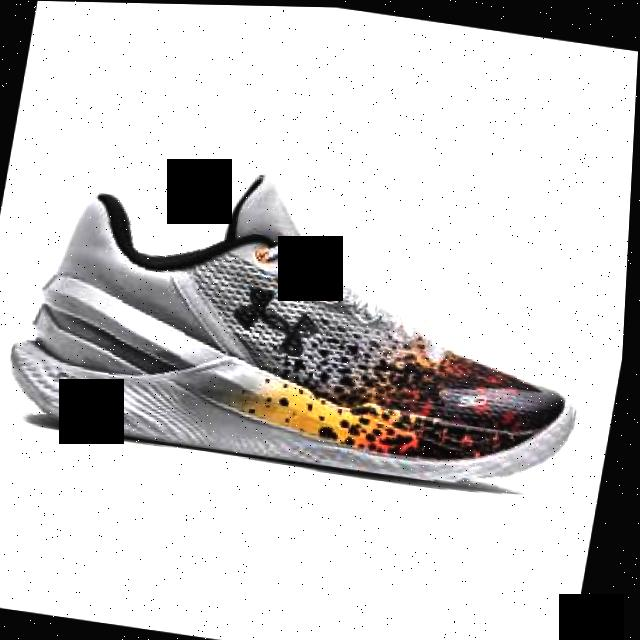shoe: (1, 142, 613, 497)
